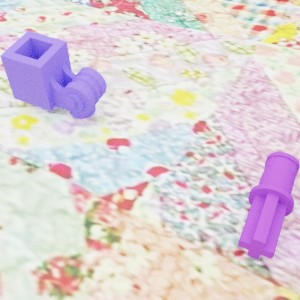lego: (0, 30, 106, 118), (238, 151, 300, 259)
